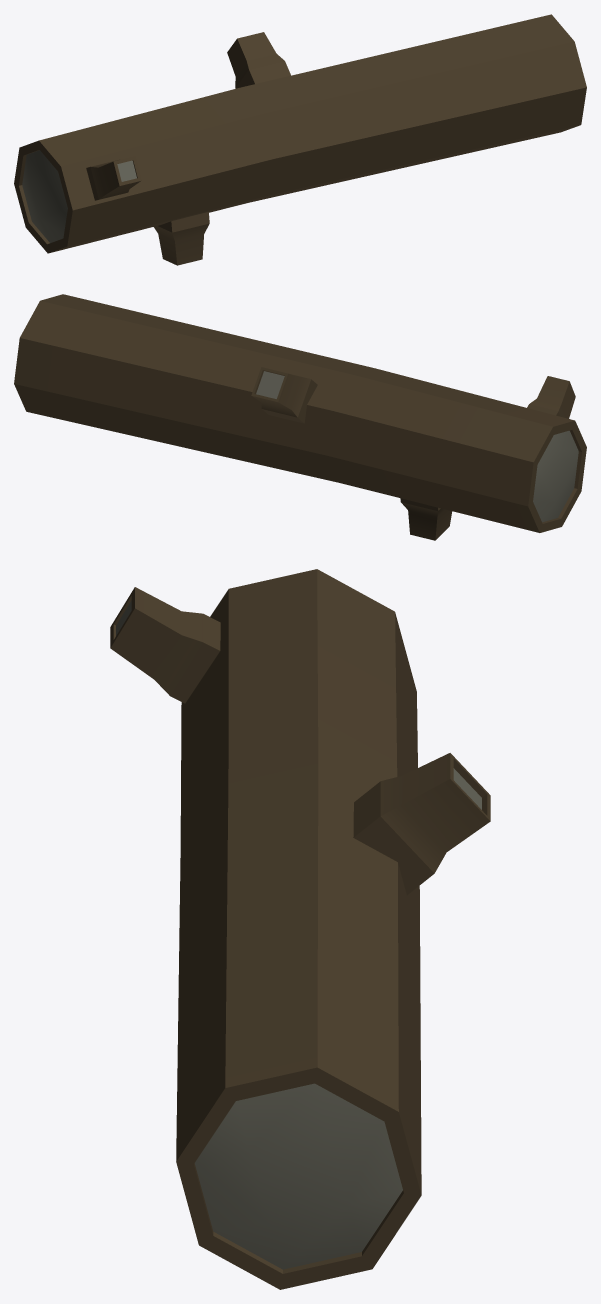
File: Log_Conifer_tree.fbx
The picture shows the model from 3 angles, top to bottom: view 1: azimuth 30°, elevation 25°; view 2: azimuth 150°, elevation 25°; view 3: azimuth 270°, elevation 25°; orthographic projection. The views are drawn at different scales.
Visible parts, largest first — view 1: Connifer_Tree_Log; view 2: Connifer_Tree_Log; view 3: Connifer_Tree_Log.
Boxes of the visible parts, x1,y1,x2,y2 form: Connifer_Tree_Log: (14, 14, 586, 265); Connifer_Tree_Log: (14, 294, 586, 540); Connifer_Tree_Log: (110, 569, 490, 1289).
Bounding box in the file's own units: 250 × 77.72 × 80.24.
